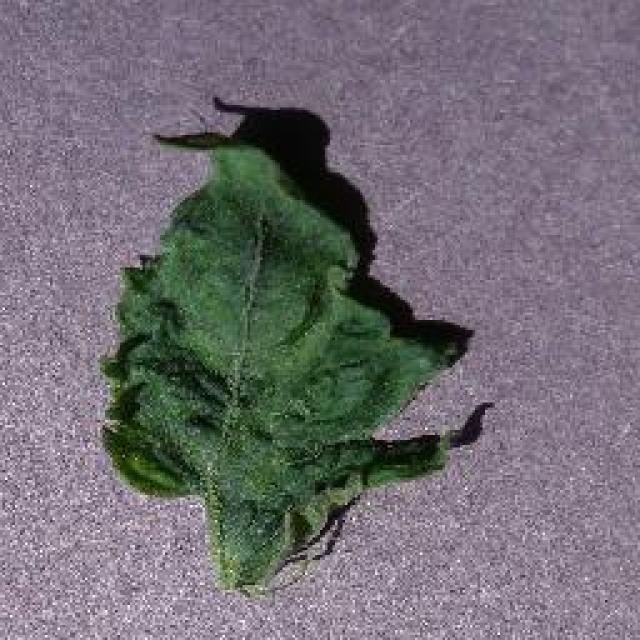Tomato spider mites leaf: (100, 130, 458, 592)
